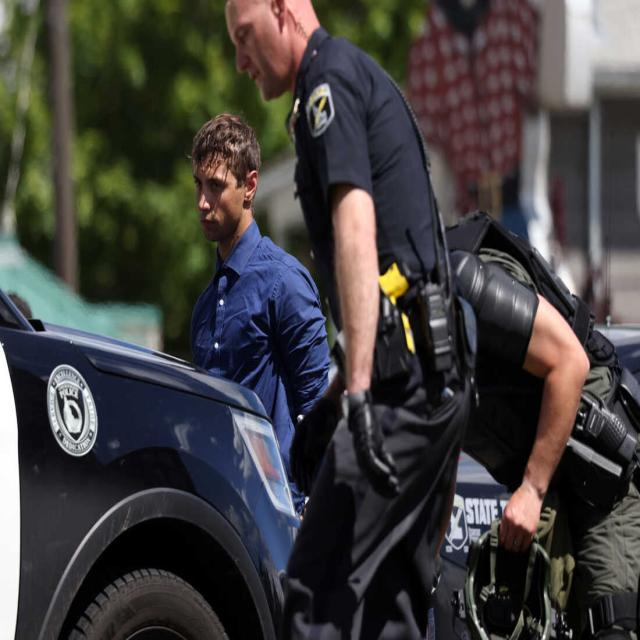police: (211, 0, 454, 640)
